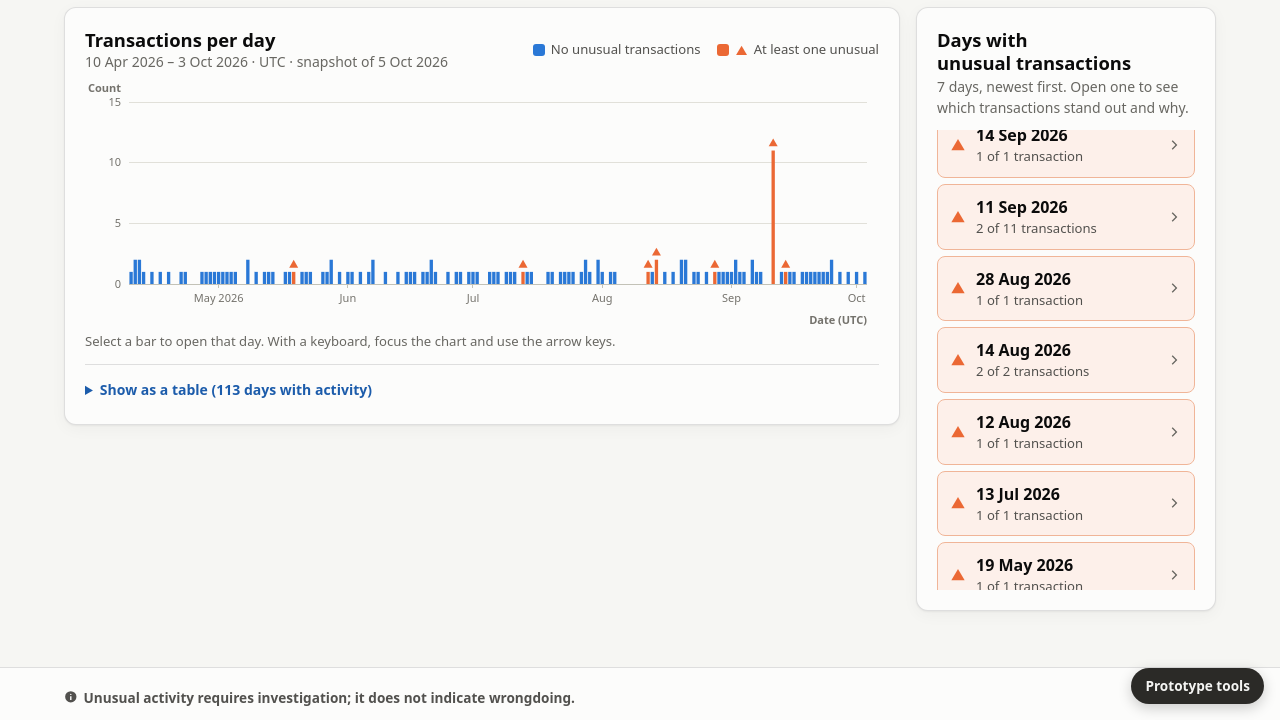
usability walkthrough tasks › 2. find a highlighted date and open it
(page scrolled)
Click the link "14 Aug 2026 2 of 2 transactions" at (1066,360), box [937,327,1195,393]
(page scrolled)
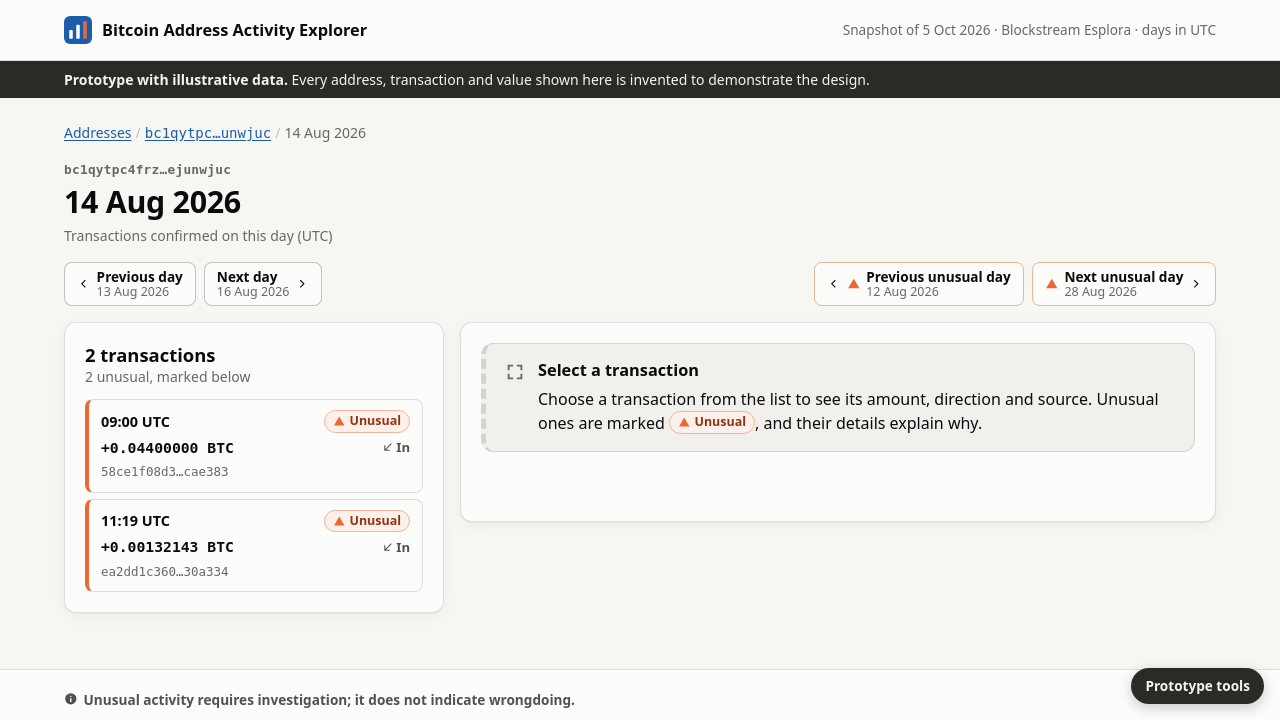
Expected: the heading "14 Aug 2026" is shown, [64,181,241,222]
